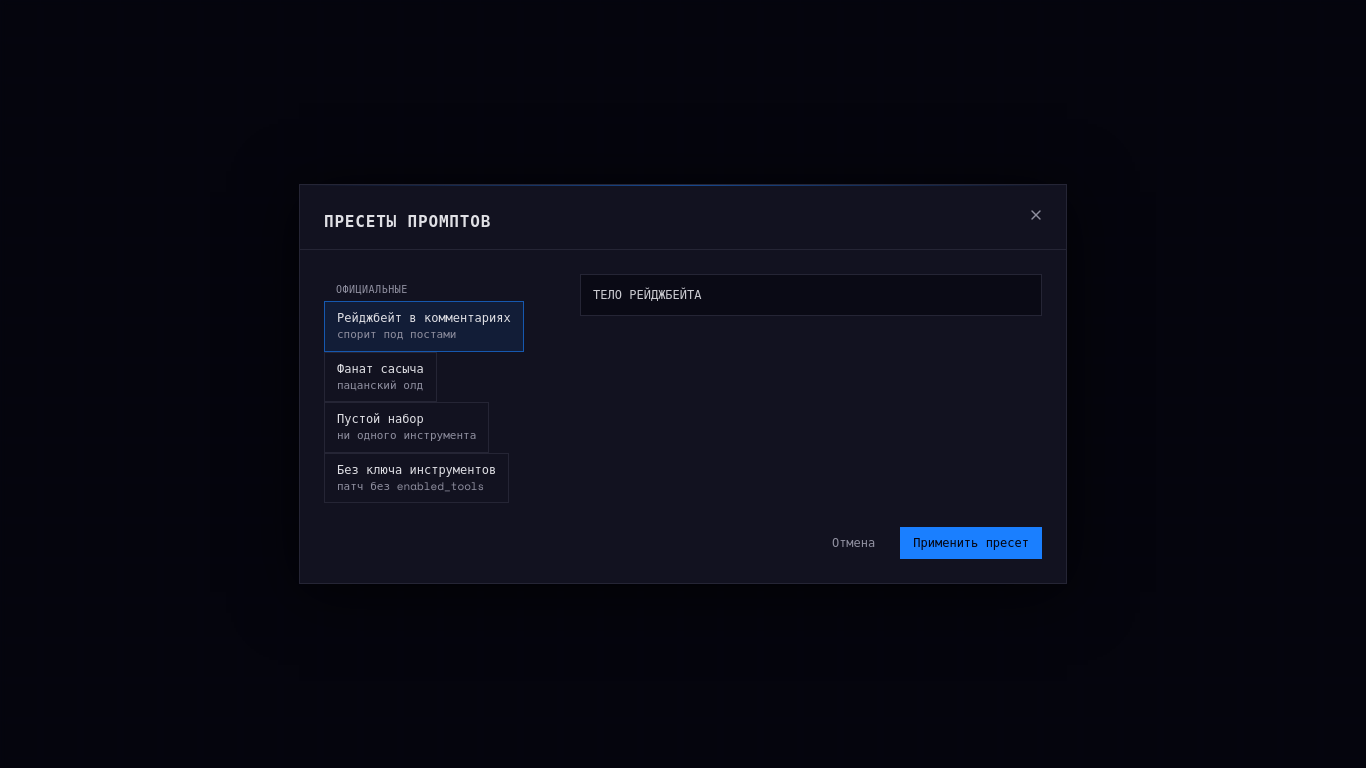
Test case: PresetPickerDialog › предупреждение упоминает настройки инструментов, когда пресет их несёт
Click the option "Фанат сасыча пацанский олд": (380, 377) left=324, top=352, right=437, bottom=402
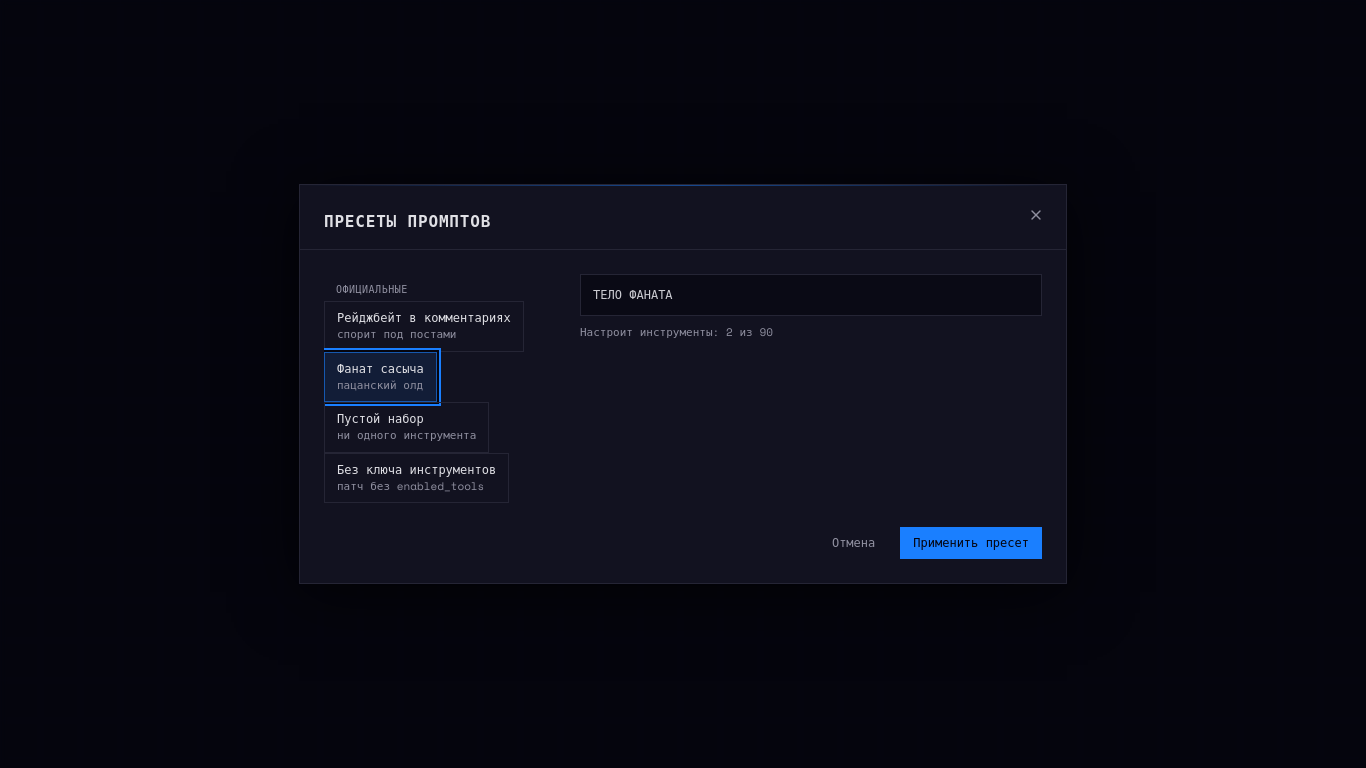
Click the button "Применить пресет": (971, 543) left=900, top=527, right=1042, bottom=559
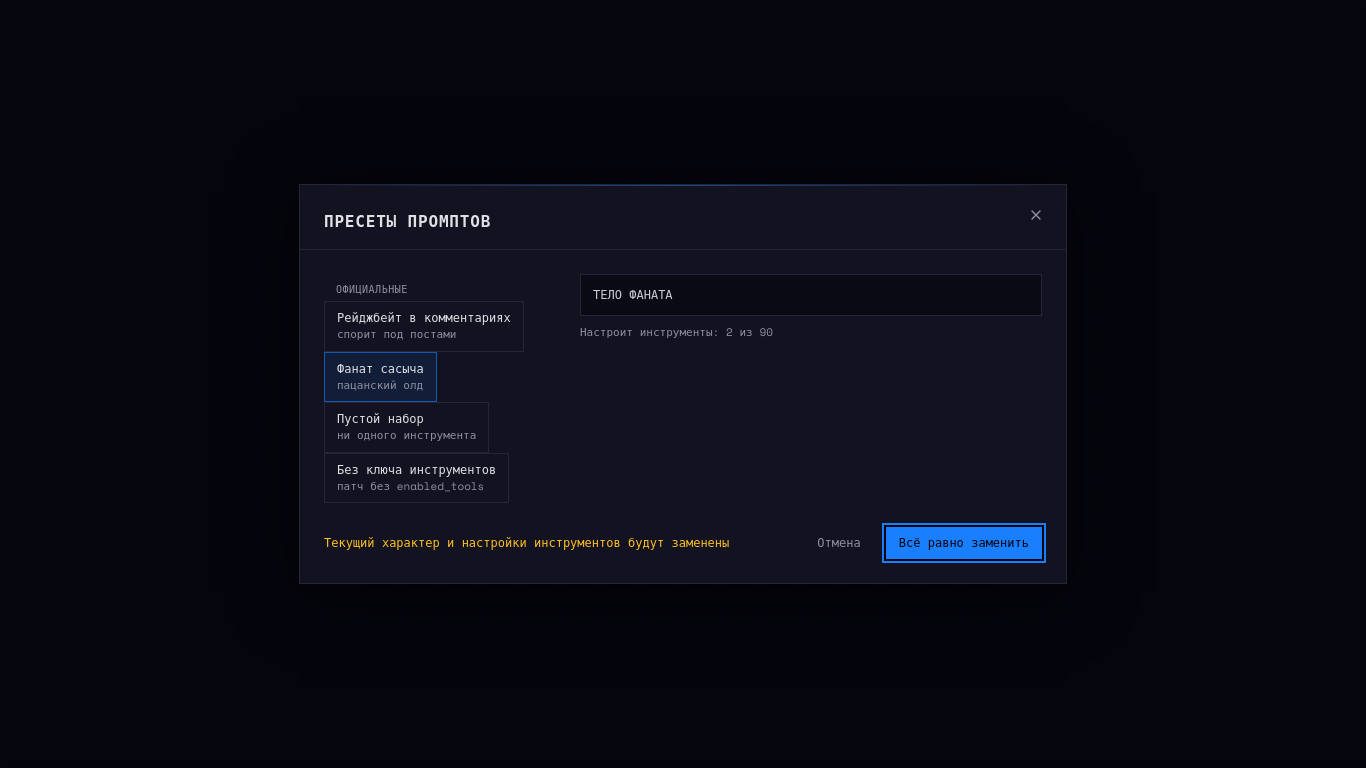
Check: the message shows "настройки инструментов", box left=324, top=534, right=729, bottom=551
